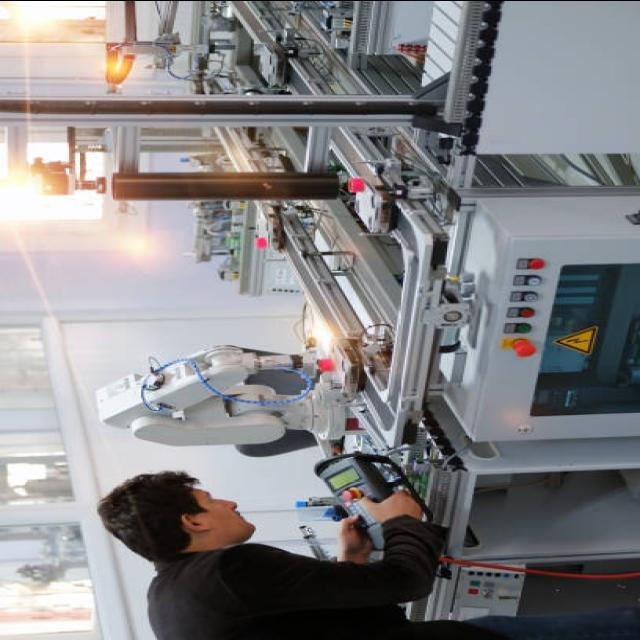Robotic-arm: (83, 334, 340, 458)
